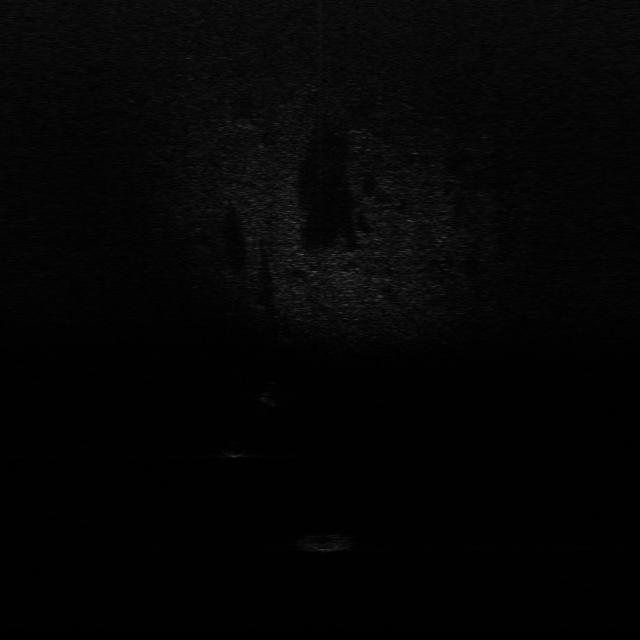ball: (218, 440, 248, 461)
circle cage: (289, 530, 357, 554)
human body: (260, 382, 280, 416)
